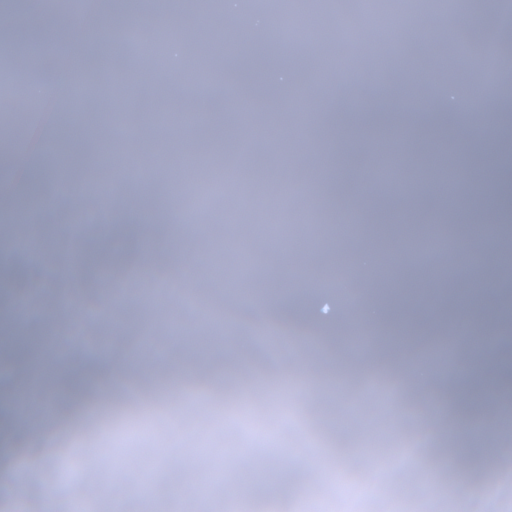Iceberg: (321, 304, 329, 312), (451, 96, 453, 98), (280, 78, 282, 79), (175, 54, 176, 55)
